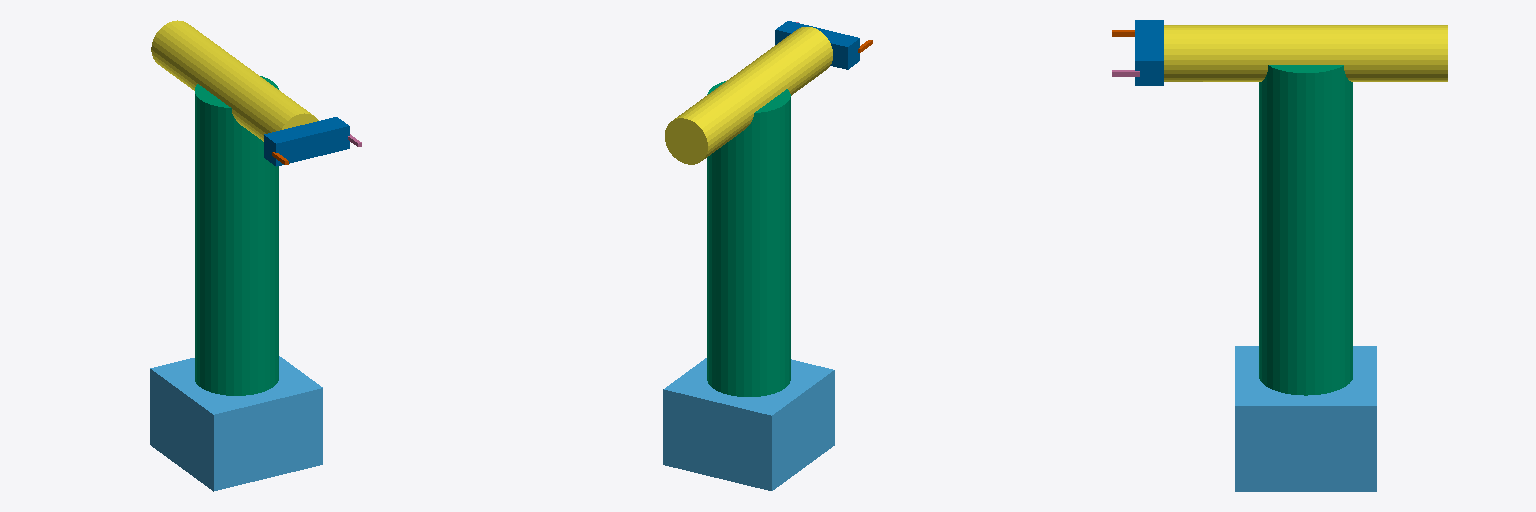
The robot description file, URDF, robot "test_merge_joints":
<?xml version="1.0" encoding="UTF-8"?>
<robot name="test_merge_joints">

  <link name="root_link"/>

  <joint name="root_to_base" type="fixed">
    <parent link="root_link"/>
    <child link="base_link"/>
  </joint>

  <link name="base_link">
    <visual>
      <geometry>
        <box size="0.3 .3 .2"/>
      </geometry>
    </visual>
    <collision>
      <geometry>
        <box size="0.3 .3 .2"/>
      </geometry>
    </collision>
    <inertial>
      <mass value="10"/>
      <inertia ixx="1.0" ixy="0.0" ixz="0.0" iyy="1.0" iyz="0.0" izz="1.0"/>
    </inertial>
  </link>

  <joint name="base_joint" type="continuous">
    <parent link="base_link"/>
    <child link="link_1"/>
    <axis xyz="0 0 1"/>
    <origin xyz="0 0 0.45"/>
  </joint>

  <link name="link_1">
    <visual>
      <geometry>
        <cylinder length="0.8" radius=".1"/>
      </geometry>
    </visual>
    <collision>
      <geometry>
        <cylinder length="0.8" radius=".1"/>
      </geometry>
    </collision>
    <inertial>
      <mass value="10"/>
      <inertia ixx="1.0" ixy="0.0" ixz="0.0" iyy="1.0" iyz="0.0" izz="1.0"/>
    </inertial>
  </link>


  <joint name="elbow_joint" type="fixed">
    <parent link="link_1"/>
    <child link="link_2"/>
    <limit effort="1000.0" lower="-0.6" upper="0.6" velocity="0.5"/>
    <origin xyz="0 0 0.4" rpy="1.571 0 0"/>
    <axis xyz="1 0 0"/>
  </joint>

  <link name="link_2">
    <visual>
      <geometry>
        <cylinder length="0.6" radius=".06"/>
      </geometry>
    </visual>
    <collision>
      <geometry>
        <cylinder length="0.6" radius=".06"/>
      </geometry>
    </collision>
    <inertial>
      <mass value="10"/>
      <inertia ixx="1.0" ixy="0.0" ixz="0.0" iyy="1.0" iyz="0.0" izz="1.0"/>
    </inertial>
  </link>

  <joint name="wrist_joint" type="fixed">
    <parent link="link_2"/>
    <child link="palm_link"/>
    <origin xyz="0 0 0.33"/>
    <axis xyz="0 0 1"/>
  </joint>

  <link name="palm_link">
    <visual>
      <geometry>
        <box size="0.2 .06 .06"/>
      </geometry>
    </visual>
    <collision>
      <geometry>
        <box size="0.2 .06 .06"/>
      </geometry>
    </collision>
    <inertial>
      <mass value="10"/>
      <inertia ixx="1.0" ixy="0.0" ixz="0.0" iyy="1.0" iyz="0.0" izz="1.0"/>
    </inertial>
  </link>

  <joint name="finger_1_joint" type="prismatic">
    <parent link="palm_link"/>
    <child link="finger_link_1"/>
    <limit effort="1000.0" lower="-0.02" upper="0.08" velocity="0.5"/>
    <origin rpy="0 1.571 0" xyz="-0.10 0 0.05"/>
    <axis xyz="0 0 1"/>
  </joint>

  <link name="finger_link_1">
    <visual>
      <geometry>
        <box size="0.06 .01 .01"/>
      </geometry>
    </visual>
    <collision>
      <geometry>
        <box size="0.06 .1 .1"/>
      </geometry>
    </collision>
    <inertial>
      <inertia ixx="1.0" ixy="0.0" ixz="0.0" iyy="1.0" iyz="0.0" izz="1.0"/>
    </inertial>
  </link>

  <joint name="finger_2_joint" type="prismatic">
    <parent link="palm_link"/>
    <child link="finger_link_2"/>
    <limit effort="1000.0" lower="-0.08" upper="0.02" velocity="0.5"/>
    <origin rpy="0 1.571 0" xyz="0.10 0 0.05"/>
    <axis xyz="0 0 1"/>
  </joint>

  <link name="finger_link_2">
    <visual>
      <geometry>
        <box size="0.06 .01 .01"/>
      </geometry>
    </visual>
    <collision>
      <geometry>
        <box size="0.06 .1 .1"/>
      </geometry>
    </collision>
    <inertial>
      <inertia ixx="2.0" ixy="0.0" ixz="0.0" iyy="3.0" iyz="0.0" izz="1.0"/>
    </inertial>
  </link>
</robot>

--- Render facts (derived) ---
The picture shows the robot from 3 angles, left to right: view 1: azimuth 30°, elevation 25°; view 2: azimuth 150°, elevation 25°; view 3: azimuth 270°, elevation 25°; orthographic projection.
Robot: test_merge_joints — 7 links, 6 joints (1 continuous, 2 prismatic, 3 fixed); root link root_link; default pose: every joint at zero.
Visible links, largest first — view 1: link_1, base_link, link_2, palm_link; view 2: link_1, base_link, link_2, palm_link; view 3: link_1, base_link, link_2, palm_link.
Link boxes in pixels (x1,y1,x2,y2): link_1: (195, 76, 278, 395); base_link: (150, 356, 322, 491); link_2: (151, 20, 318, 141); palm_link: (264, 117, 349, 166); link_1: (707, 81, 790, 396); base_link: (663, 358, 834, 490); link_2: (665, 27, 832, 164); palm_link: (775, 21, 859, 69); link_1: (1259, 65, 1352, 395); base_link: (1235, 346, 1376, 491); link_2: (1164, 25, 1447, 81); palm_link: (1135, 20, 1163, 85).
Size in the robot's own frame: 0.3 by 0.71 by 1.01 metres.
Geometry: primitives only (box / cylinder / sphere), no mesh files.